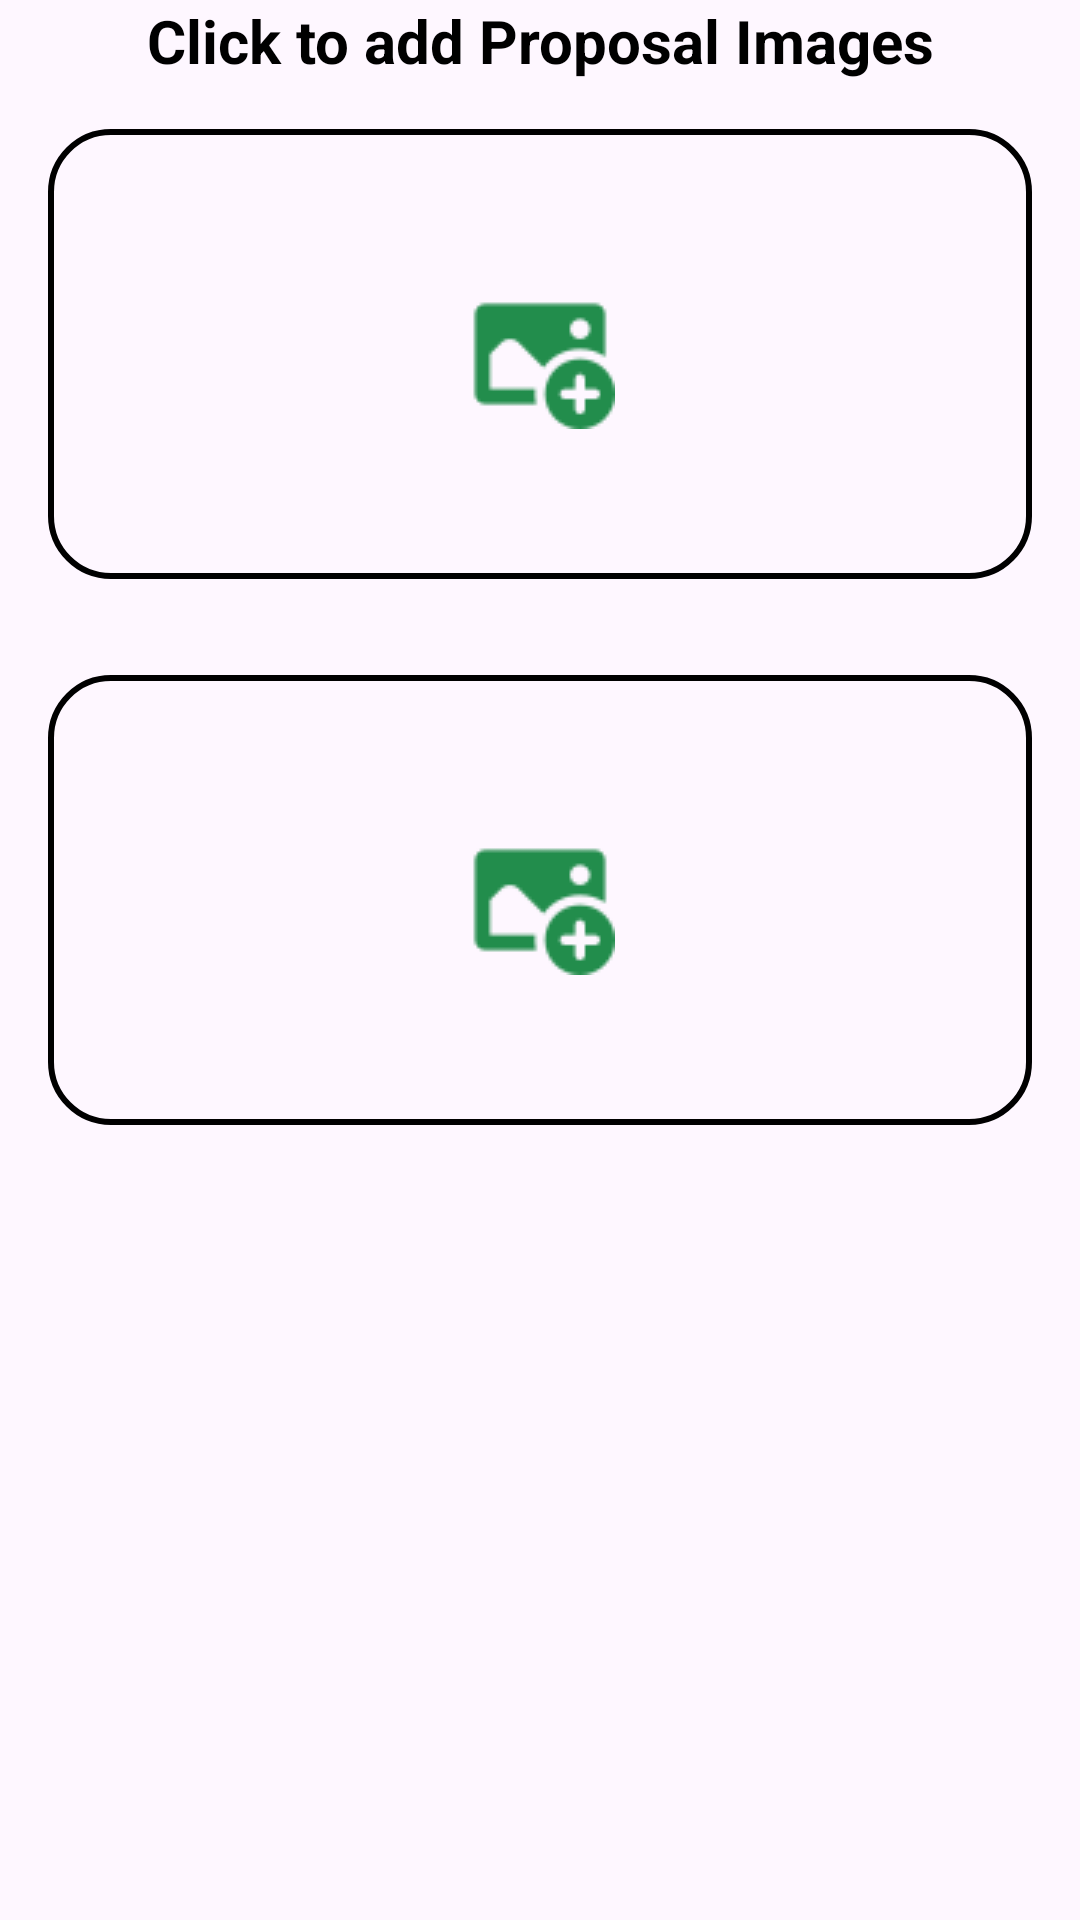

Where to tap for icons on this 1080*1920 app screen, as (x,y):
imageicon: (544,365), (544,911)
